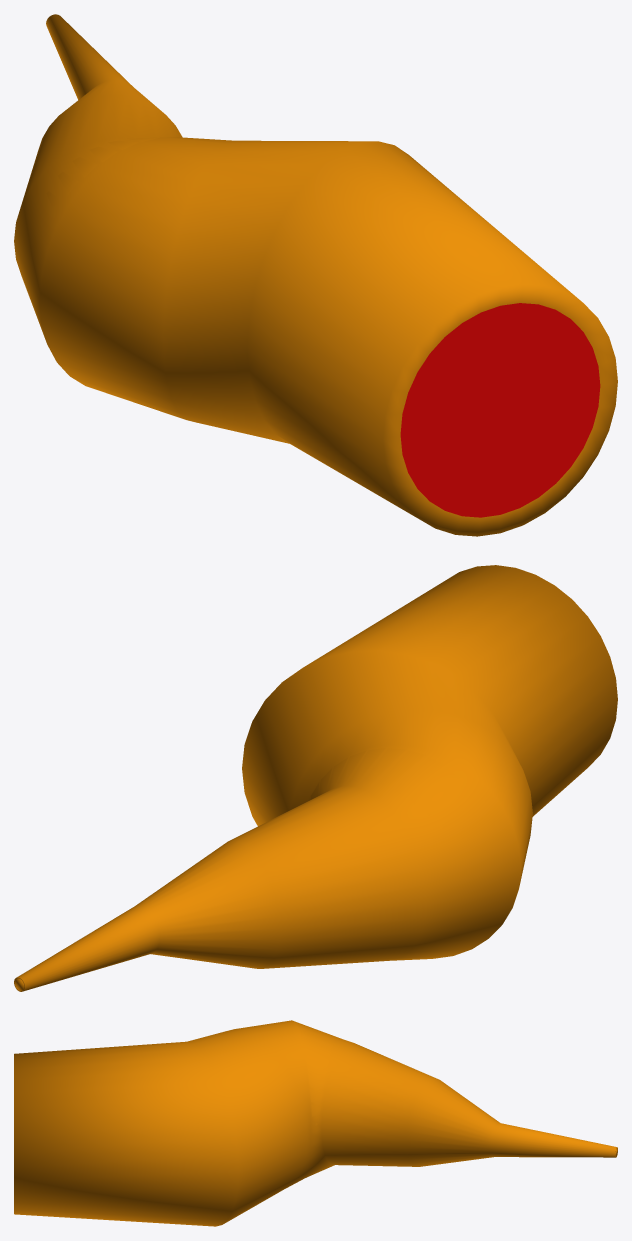
Rendered from NEWT.fbx.
3 views of the same model, one above another, from view 1: azimuth 30°, elevation 25°; view 2: azimuth 150°, elevation 25°; view 3: azimuth 270°, elevation 25° (orthographic). The views are drawn at different scales.
Visible parts, largest first — view 1: Cylinder; view 2: Cylinder; view 3: Cylinder.
Boxes of the visible parts, x1,y1,x2,y2 form: Cylinder: (14, 14, 617, 536); Cylinder: (14, 565, 617, 991); Cylinder: (14, 1020, 617, 1226).
Bounding box in the file's own units: 262 × 200 × 644.
